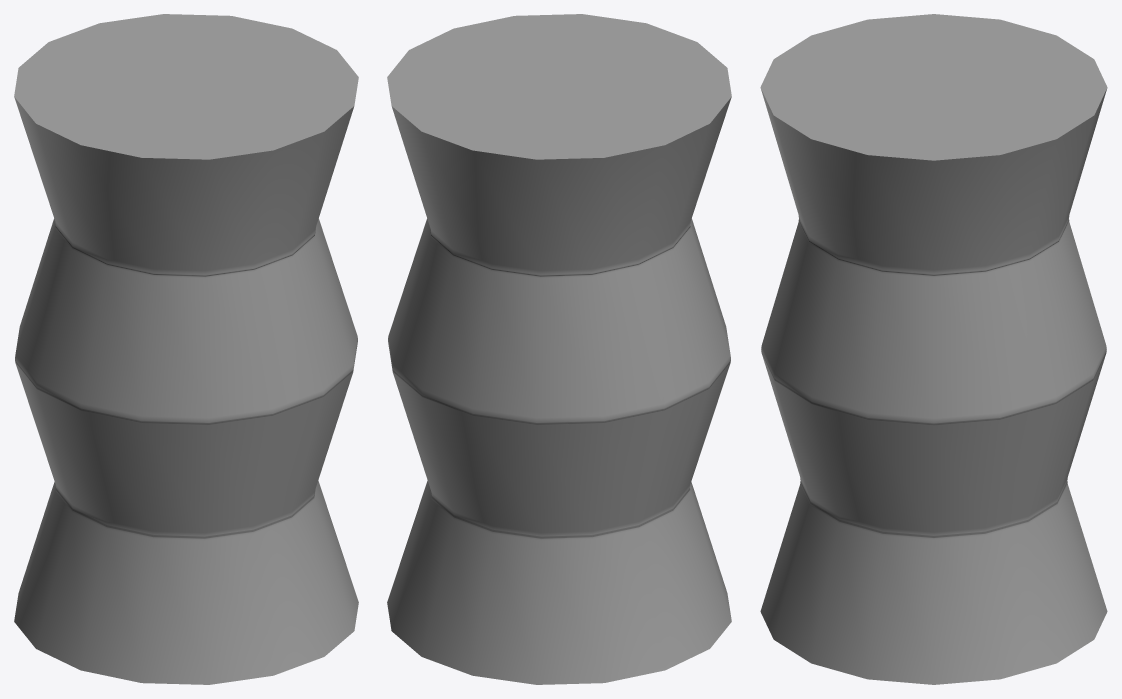
File: FountainSupportV2.fbx
The picture shows the model from 3 angles, left to right: view 1: azimuth 30°, elevation 25°; view 2: azimuth 150°, elevation 25°; view 3: azimuth 270°, elevation 25°; orthographic projection.
Visible parts, largest first — view 1: SupportV2; view 2: SupportV2; view 3: SupportV2.
Boxes of the visible parts, x1,y1,x2,y2 form: SupportV2: [14, 14, 358, 684]; SupportV2: [387, 14, 731, 684]; SupportV2: [760, 14, 1107, 684].
Bounding box in the file's own units: 60 × 100 × 60.
